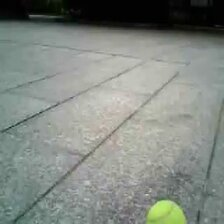tennis: (144, 200, 186, 224)
